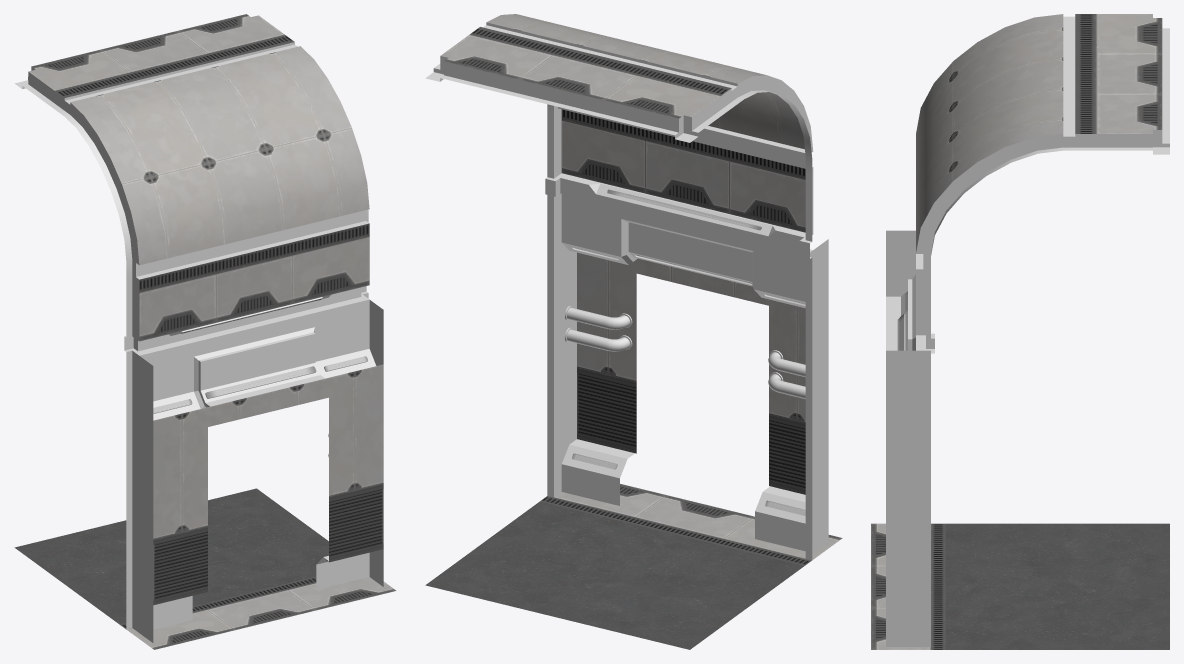
The model's file is wall01_door.fbx.
3 views of the same model, side by side, from view 1: azimuth 30°, elevation 25°; view 2: azimuth 150°, elevation 25°; view 3: azimuth 270°, elevation 25° (orthographic). The views are drawn at different scales.
Parts seen in each view (by area): view 1: wall01_door; view 2: wall01_door; view 3: wall01_door.
Boxes of the visible parts, box(x1,y1,x2,y2) form: wall01_door: box(14, 14, 396, 649); wall01_door: box(425, 14, 842, 649); wall01_door: box(871, 14, 1169, 649).
Size of the model in its own units: 200 by 379 by 200.
